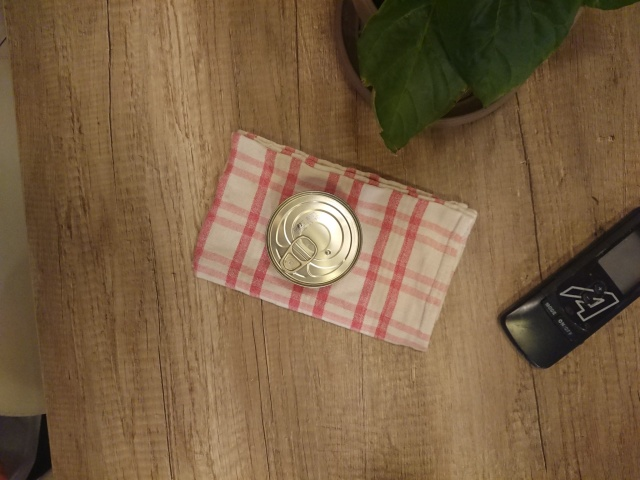Podravka Luncheon Meat 150g: (263, 189, 365, 290)
